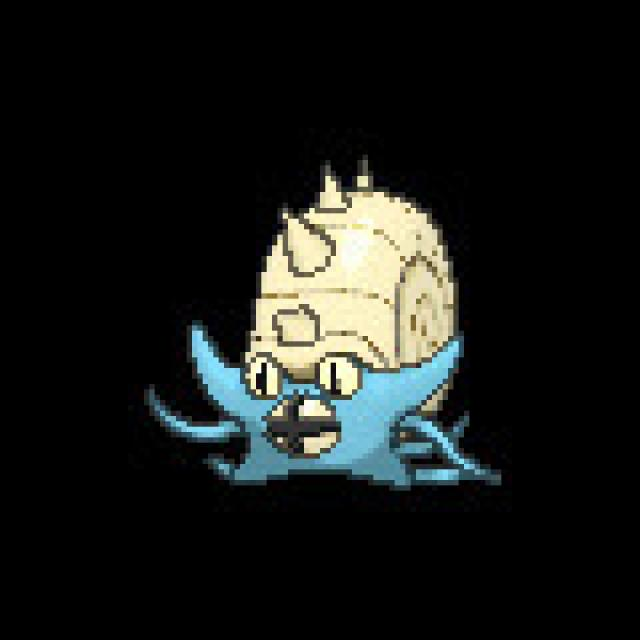Omastar: (229, 192, 467, 485)
